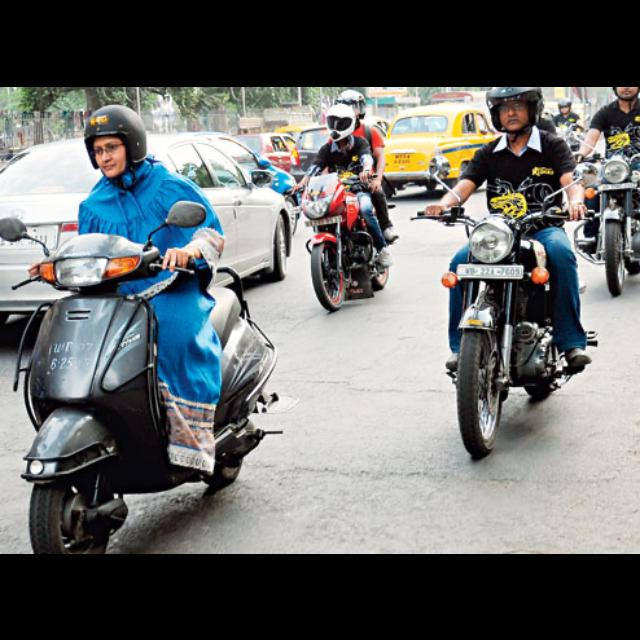With Helmet: (75, 100, 158, 180), (483, 86, 549, 136), (321, 100, 359, 140)
